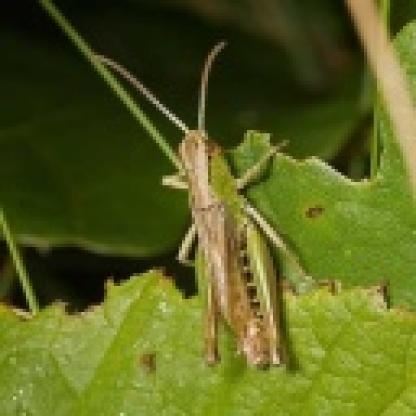grasshopper: (137, 64, 324, 374)
